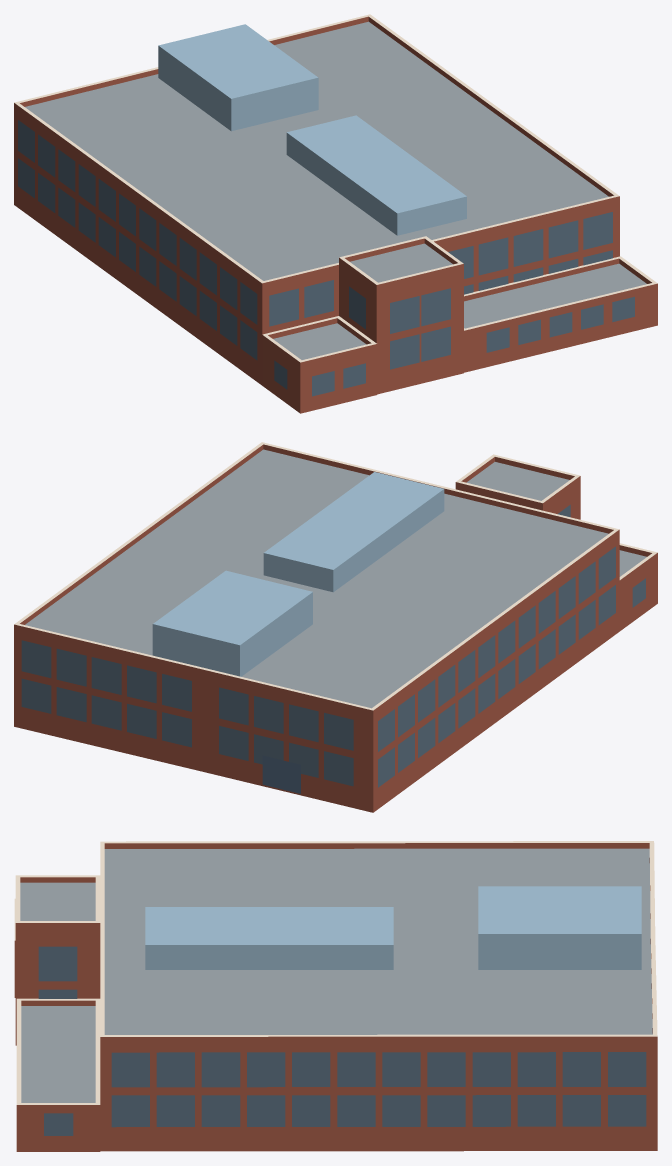
Rendered from clt-atrium-building.glb.
The picture shows the model from 3 angles, top to bottom: view 1: azimuth 30°, elevation 25°; view 2: azimuth 150°, elevation 25°; view 3: azimuth 270°, elevation 25°; orthographic projection. The views are drawn at different scales.
Parts seen in each view (by area): view 1: Atrium Building; view 2: Atrium Building; view 3: Atrium Building.
Boxes of the visible parts, left/top/right/bottom form: Atrium Building: left=14, top=14, right=657, bottom=413; Atrium Building: left=14, top=442, right=657, bottom=812; Atrium Building: left=14, top=841, right=657, bottom=1151.
Bounding box in the file's own units: 41.3 × 14.2 × 57.09.
